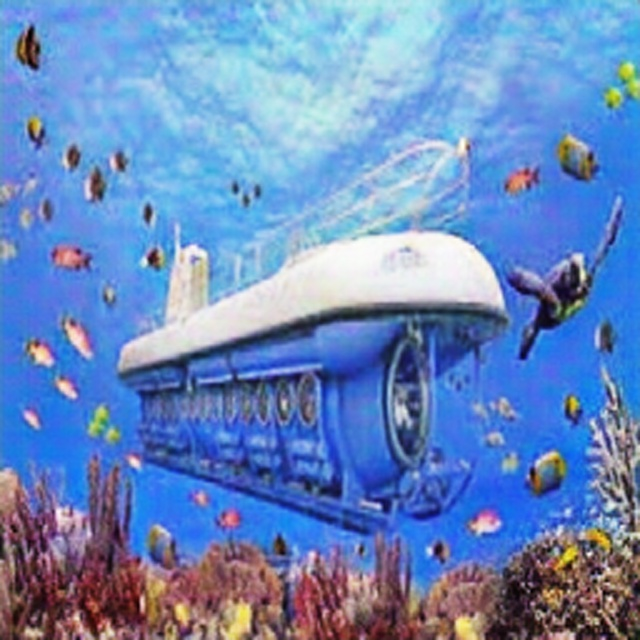submarine: (113, 224, 513, 535)
